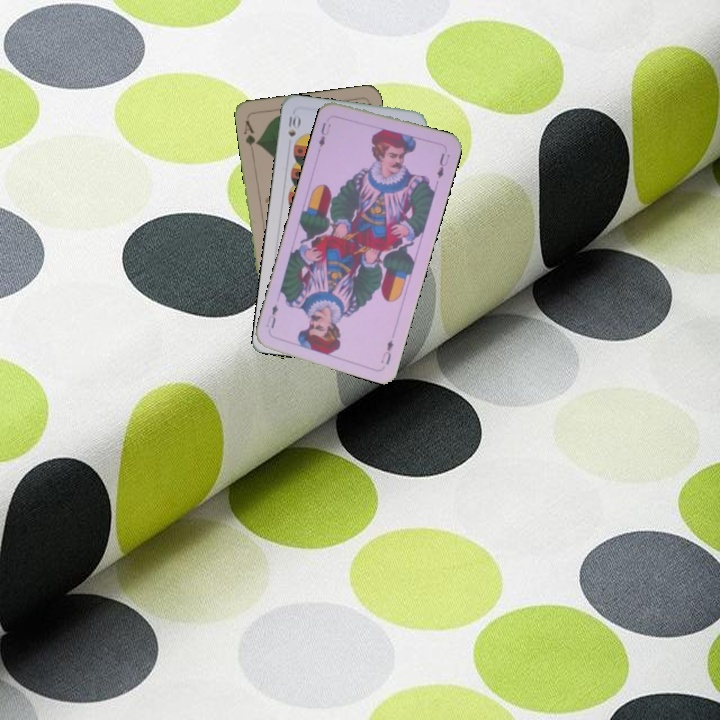EU: (377, 336, 396, 367), (315, 118, 333, 150)
GA: (240, 116, 261, 155)
S10: (284, 110, 302, 139)
